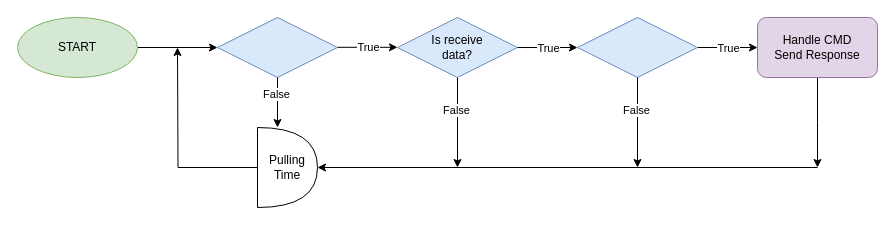
The diagram is 895 pixels wide and 225 high, and some of its shapes have lost their labels. The centre of each missing label's shape, as x and y in pixels:
Is valid CMD?: (x=637, y=47)
MIN ready?: (x=277, y=47)
